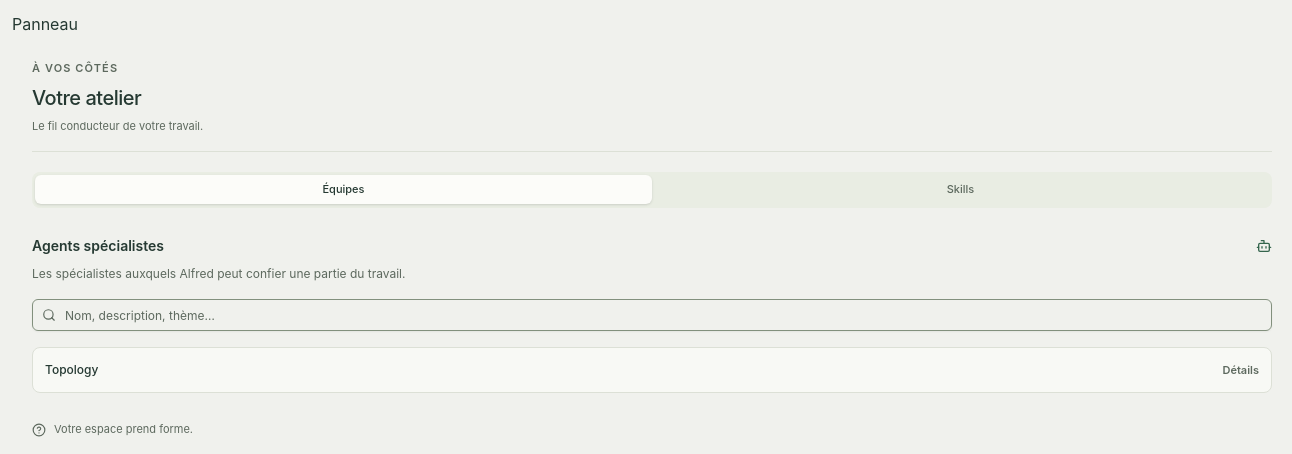
Test: Équipes tab behind the teams capability › sends one debounced search once typing settles and names an empty result
Expected: the heading "Topology" is shown, [45, 362, 98, 378]
In the search field named "Rechercher un agent": (652, 315) [32, 299, 1272, 331], type " absent "
Wait 300 ms
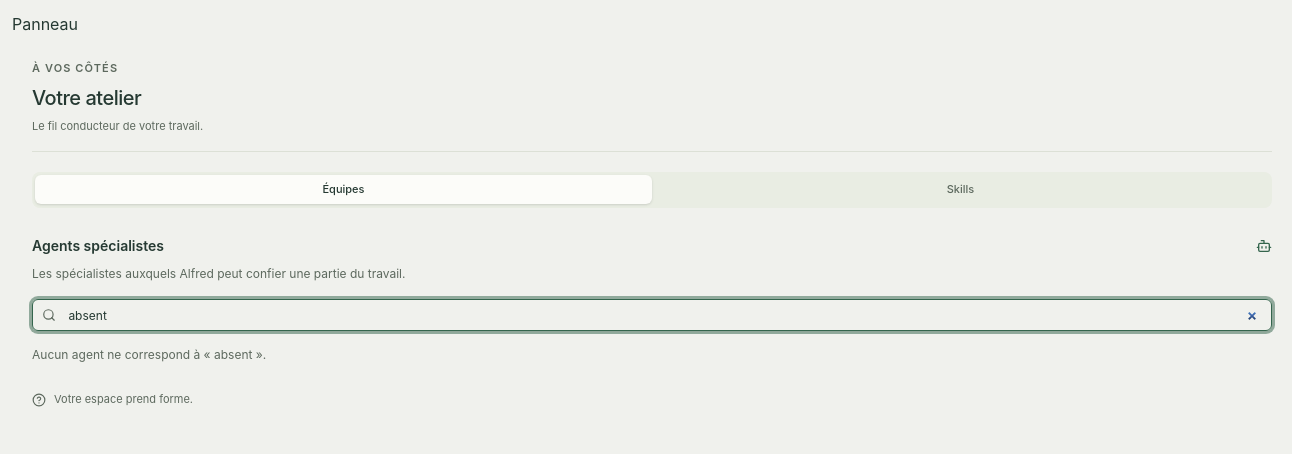
Expected: the text "Aucun agent ne correspond à « absent »." is shown, [32, 347, 266, 362]
